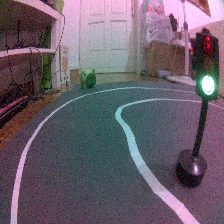green: (175, 26, 222, 190)
